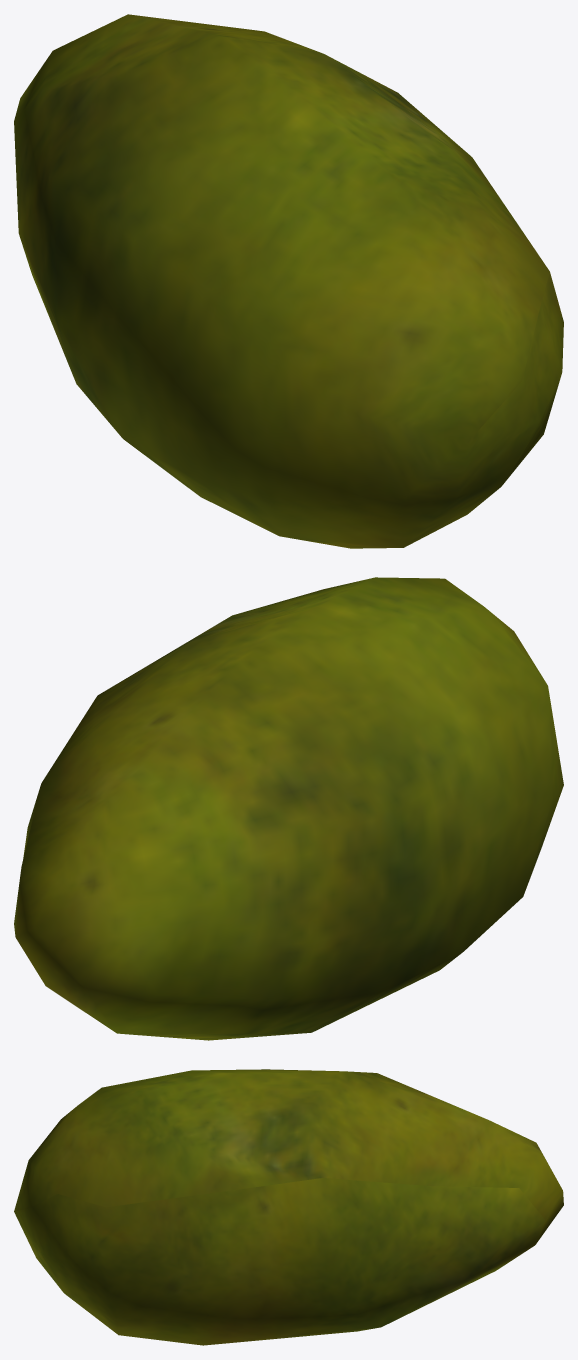
File: PapayaGreen_LOD0.fbx
3 renders of one model, top to bottom at view 1: azimuth 30°, elevation 25°; view 2: azimuth 150°, elevation 25°; view 3: azimuth 270°, elevation 25°, orthographic. The views are drawn at different scales.
Visible parts, largest first — view 1: fruitGreen_LOD0; view 2: fruitGreen_LOD0; view 3: fruitGreen_LOD0.
Part boxes in pixels (x1,y1,x2,y2): fruitGreen_LOD0: (14,14,563,548); fruitGreen_LOD0: (14,577,563,1040); fruitGreen_LOD0: (14,1069,563,1345).
Size of the model in its own units: 0.117 by 0.1228 by 0.2295.
